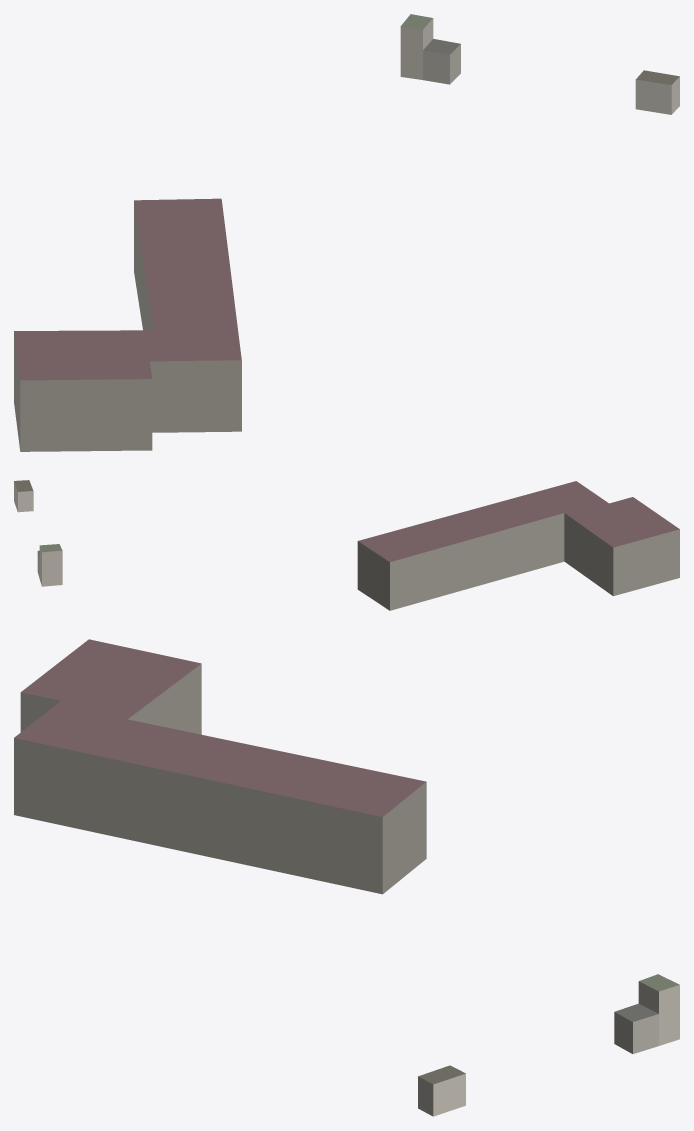
The picture shows the model from 3 angles, top to bottom: view 1: azimuth 30°, elevation 25°; view 2: azimuth 150°, elevation 25°; view 3: azimuth 270°, elevation 25°; orthographic projection. The views are drawn at different scales.
Visible parts, largest first — view 1: tuile; view 2: tuile; view 3: tuile.
Part boxes in pixels (x1,y1,x2,y2): tuile: (14, 14, 679, 451); tuile: (14, 480, 679, 610); tuile: (14, 639, 679, 1116).
Bounding box in the file's own units: 121 × 10.73 × 79.1.
